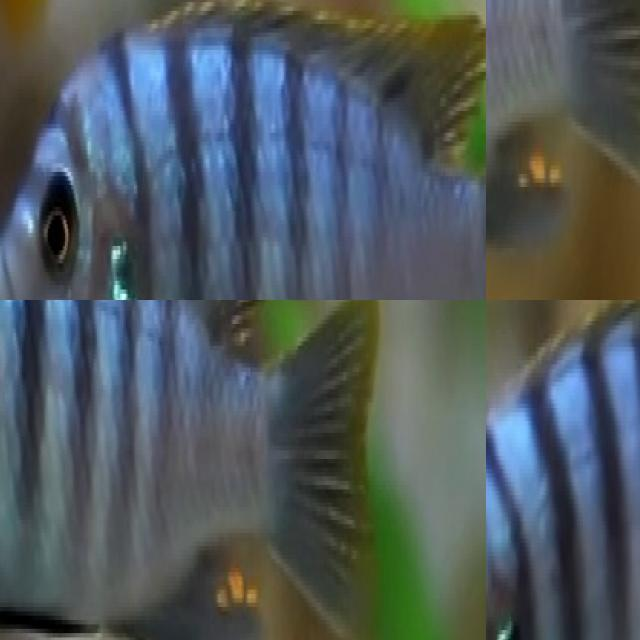fish: (0, 0, 486, 300), (0, 300, 389, 640), (486, 0, 640, 300)
